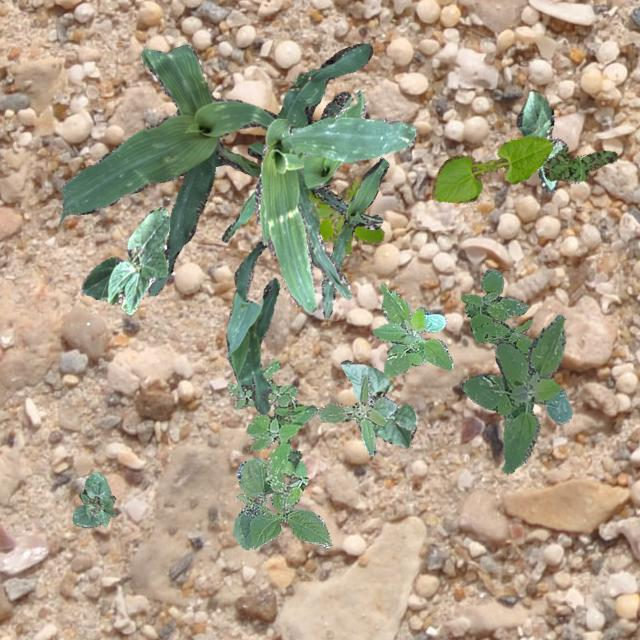crop: (59, 43, 277, 294), (253, 116, 414, 312), (246, 42, 382, 266), (220, 88, 364, 240), (320, 156, 388, 318), (80, 205, 168, 314), (226, 241, 278, 414), (232, 458, 330, 548), (431, 134, 552, 202), (372, 283, 452, 377), (340, 358, 416, 446), (516, 88, 566, 194), (72, 471, 115, 526)
weed: (460, 314, 570, 474), (226, 358, 316, 511), (314, 374, 398, 454), (459, 268, 532, 354), (306, 178, 382, 254), (542, 147, 616, 180)
